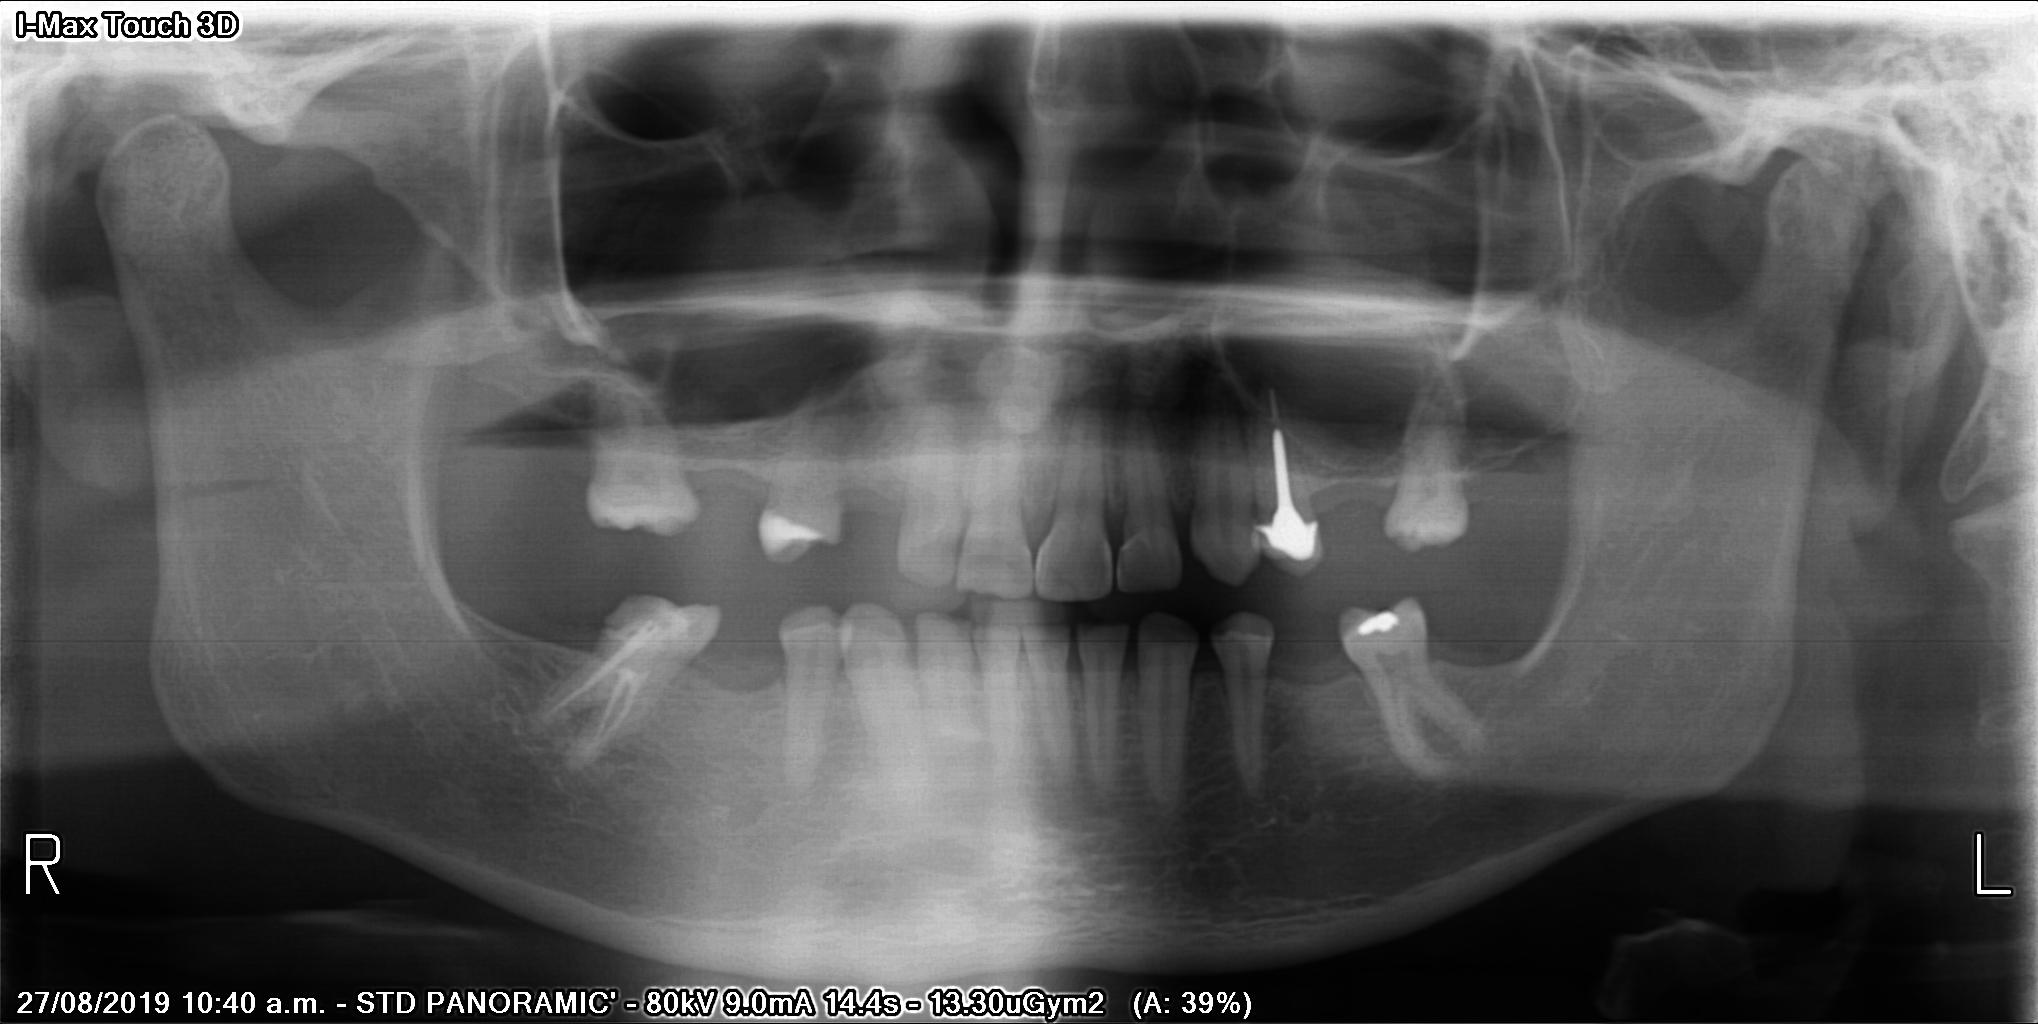Çürük: (1249, 494, 1325, 576), (743, 499, 837, 559), (1346, 602, 1414, 643)
Çürük Bölgesi: (607, 596, 670, 637), (1205, 616, 1240, 644)
